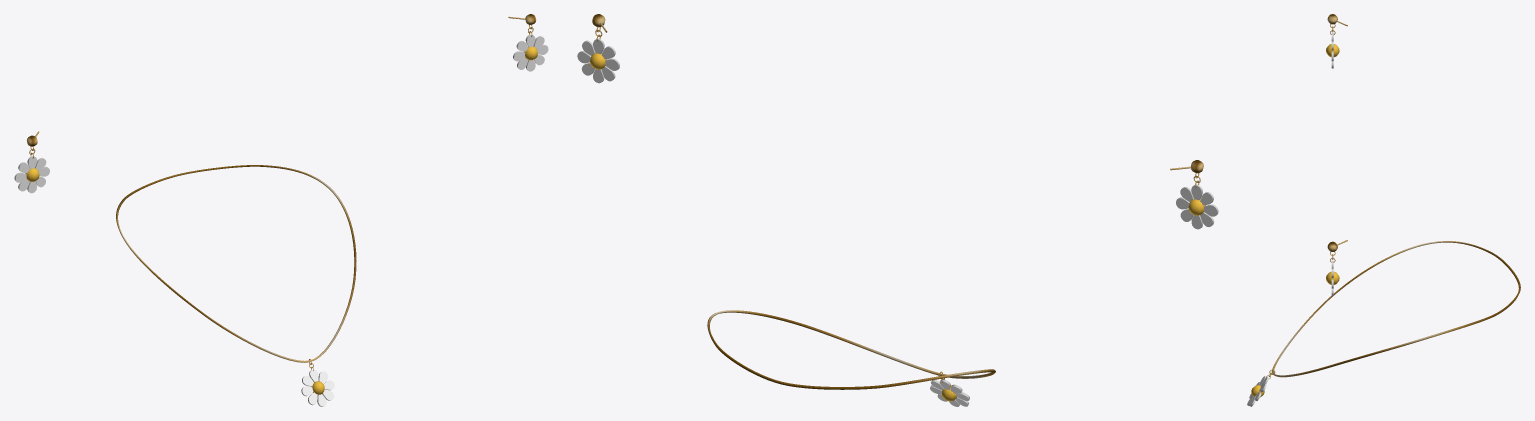
File: accessory8.glb
The picture shows the model from 3 angles, left to right: view 1: azimuth 30°, elevation 25°; view 2: azimuth 150°, elevation 25°; view 3: azimuth 270°, elevation 25°; orthographic projection. The views are drawn at different scales.
Parts seen in each view (by area): view 1: s4studio_mesh_1.001, s4studio_mesh_1; view 2: s4studio_mesh_1, s4studio_mesh_1.001; view 3: s4studio_mesh_1.001, s4studio_mesh_1.
Boxes of the visible parts, x1,y1,x2,y2 form: s4studio_mesh_1.001: (116,165,356,406); s4studio_mesh_1: (14,14,548,193); s4studio_mesh_1: (577,14,1218,229); s4studio_mesh_1.001: (707,310,995,406); s4studio_mesh_1.001: (1247,241,1520,406); s4studio_mesh_1: (1326,14,1347,295).
Bounding box in the file's own units: 1.5 × 0.7998 × 0.7117.
2 materials, 2 textured.
